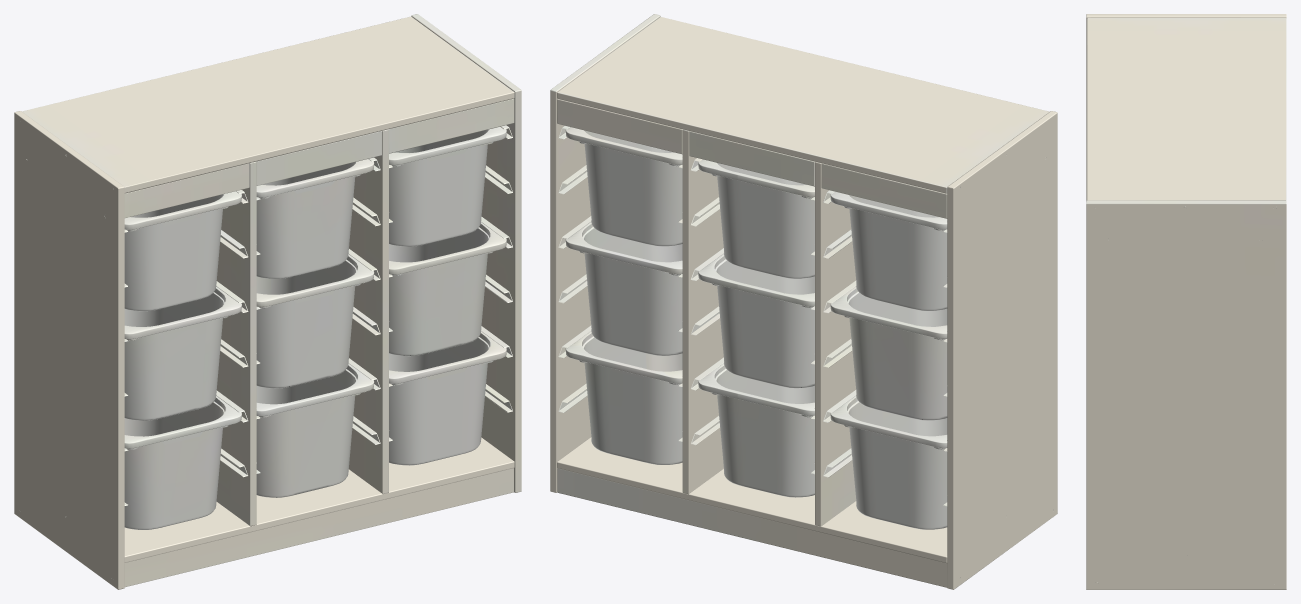
Rendered from trofast_rega_z_pojemnikami_29613141.glb.
The picture shows the model from 3 angles, left to right: view 1: azimuth 30°, elevation 25°; view 2: azimuth 150°, elevation 25°; view 3: azimuth 270°, elevation 25°; orthographic projection. The views are drawn at different scales.
Parts seen in each view (by area): view 1: trofast_rega_z_pojemnikami_29613141; view 2: trofast_rega_z_pojemnikami_29613141; view 3: trofast_rega_z_pojemnikami_29613141.
Boxes of the visible parts, <box> form: trofast_rega_z_pojemnikami_29613141: <box>14,14,521,589</box>; trofast_rega_z_pojemnikami_29613141: <box>550,14,1057,589</box>; trofast_rega_z_pojemnikami_29613141: <box>1086,14,1286,589</box>.
Bounding box in the file's own units: 0.9892 × 0.94 × 0.4417.
1 material, 1 textured.
